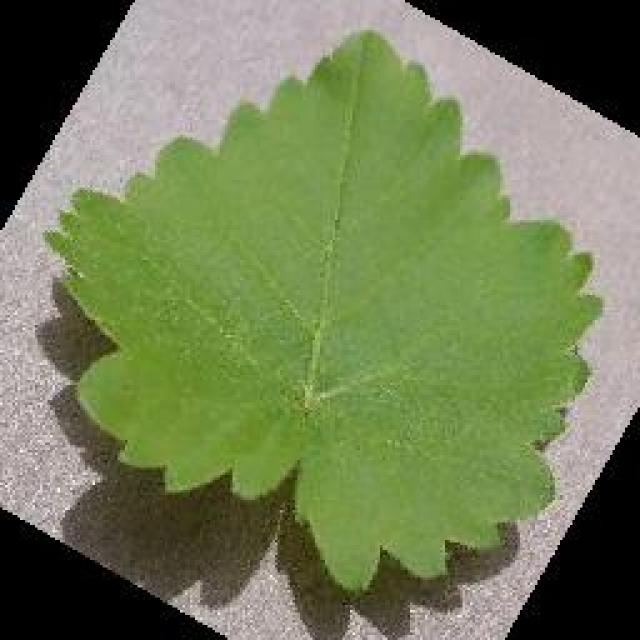Grape___healthy: (40, 27, 614, 605)
